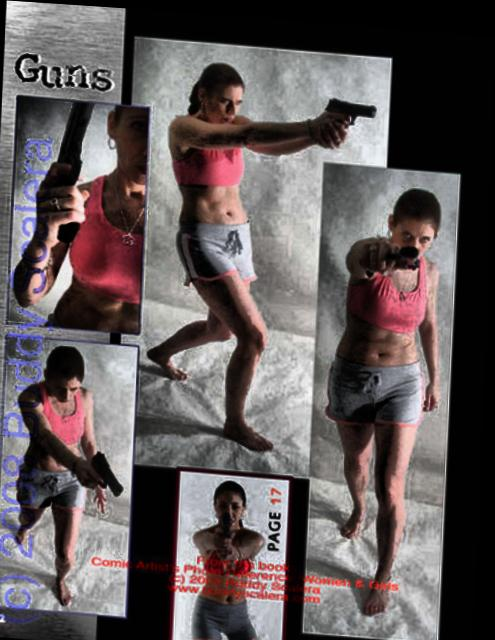pistol: (41, 95, 93, 238), (365, 234, 422, 277), (320, 91, 378, 130), (91, 450, 125, 495), (217, 508, 230, 535)
